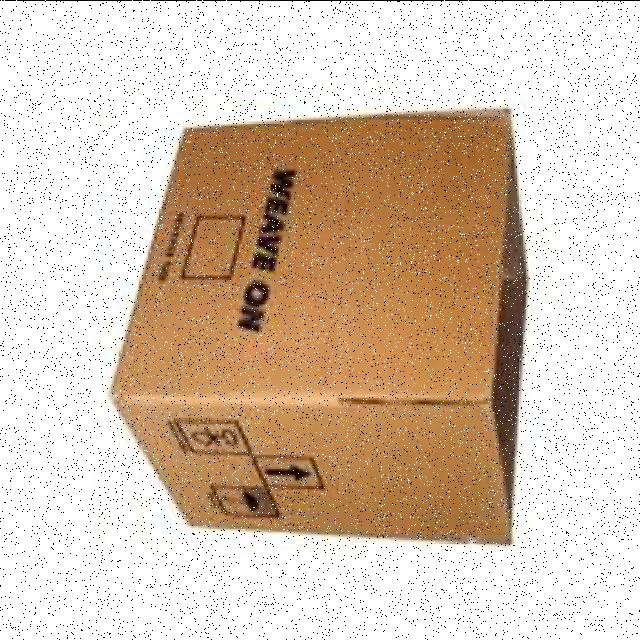defect: (106, 92, 534, 550)
